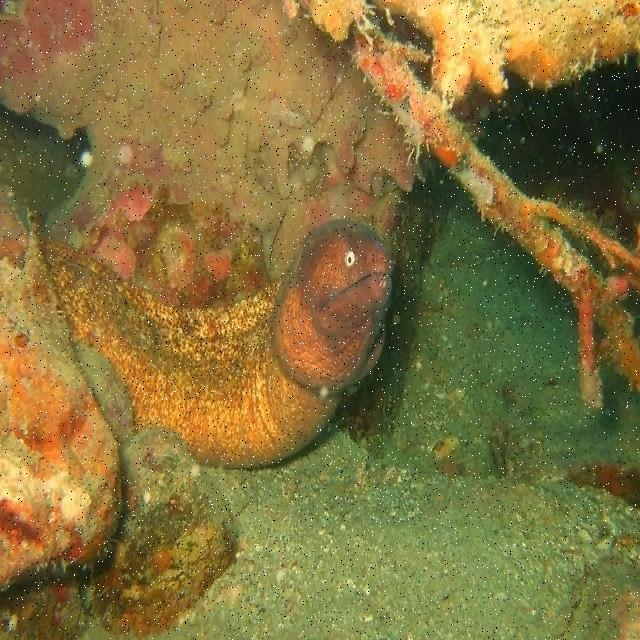fish: (42, 216, 393, 469)
reefs: (301, 0, 639, 417)
sea-floor: (2, 1, 422, 311), (0, 179, 124, 587)
